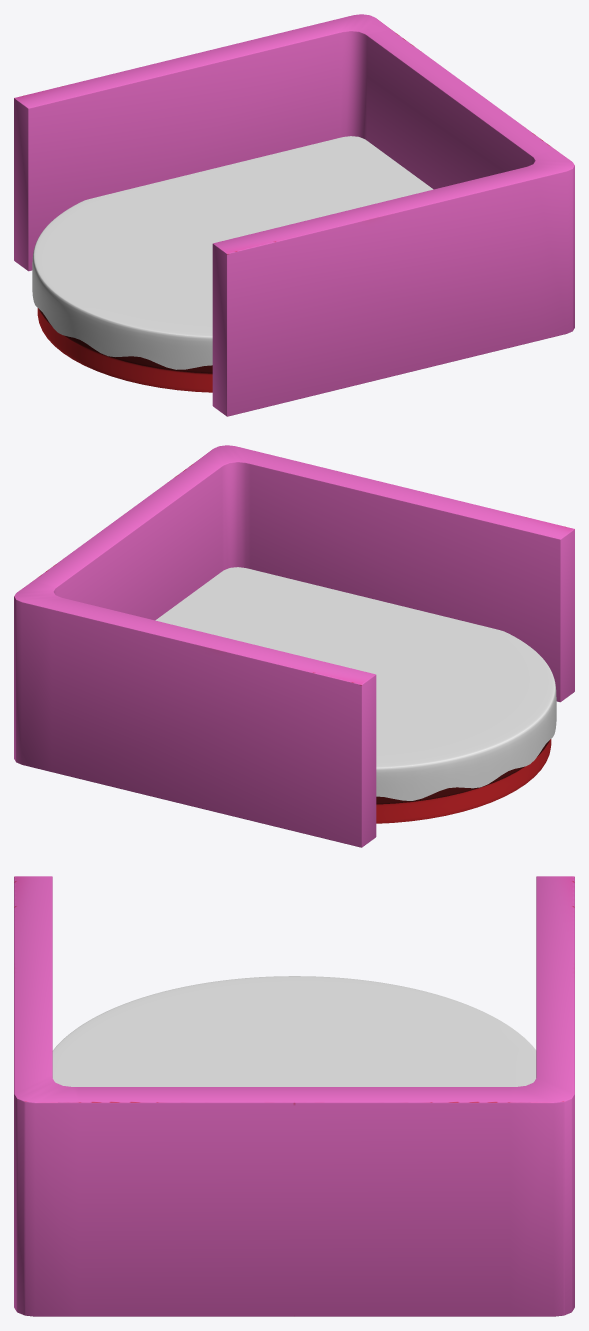
File: CakeRoom.fbx
3 views of the same model, one above another, from view 1: azimuth 30°, elevation 25°; view 2: azimuth 150°, elevation 25°; view 3: azimuth 270°, elevation 25° (orthographic). The views are drawn at different scales.
Visible parts, largest first — view 1: Cube, Cylinder.001, Cylinder; view 2: Cube, Cylinder.001, Cylinder; view 3: Cube, Cylinder.001.
Boxes of the visible parts, x1=… form: Cube: x1=14, y1=14, x2=574, y2=416; Cylinder.001: x1=32, y1=136, x2=433, y2=369; Cylinder: x1=37, y1=308, x2=212, y2=392; Cube: x1=14, y1=445, x2=574, y2=847; Cylinder.001: x1=155, y1=567, x2=556, y2=800; Cylinder: x1=376, y1=739, x2=551, y2=823; Cube: x1=14, y1=876, x2=574, y2=1316; Cylinder.001: x1=52, y1=976, x2=536, y2=1086.
Bounding box in the file's own units: 10895 × 4087 × 9682.
